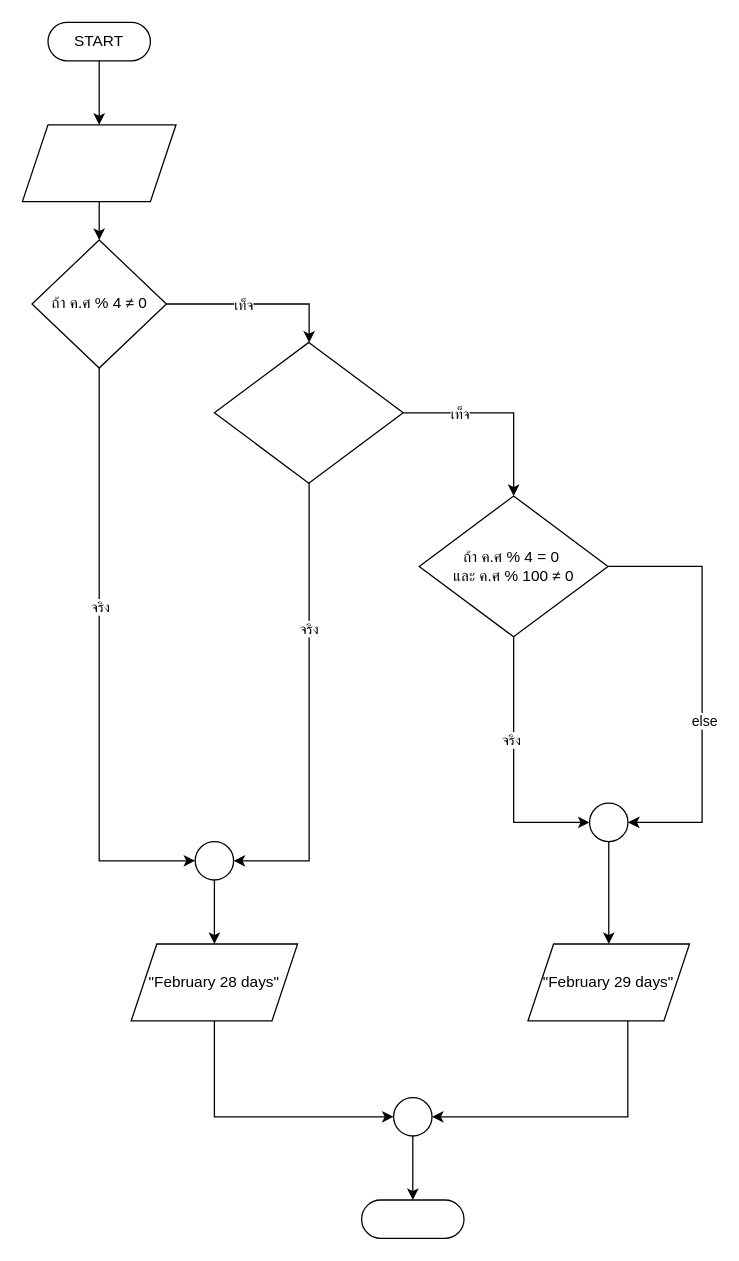
Image size: 739x1261. Some labels were removed from this diagram. Each missing label, with the centre of its shape:
"Year(s) :\n" #ใส่ค่าปี ค.ศ: (x=98, y=163)
END: (x=412, y=1218)
ถ้า ค.ศ % 4 = 0 และ ค.ศ % 100 = 0 และ ค.ศ % 400 ≠ 0: (x=308, y=412)
